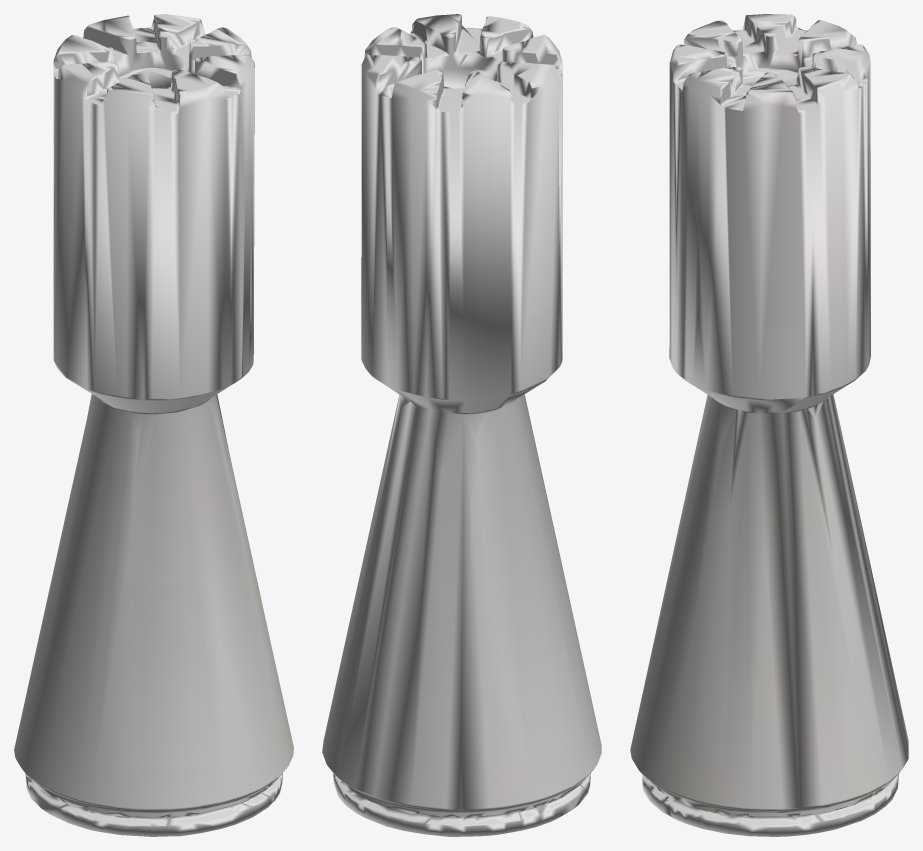
The model's file is 01_kral_bila.glb.
The picture shows the model from 3 angles, left to right: view 1: azimuth 30°, elevation 25°; view 2: azimuth 150°, elevation 25°; view 3: azimuth 270°, elevation 25°; orthographic projection.
Parts seen in each view (by area): view 1: 01_kral_bila; view 2: 01_kral_bila; view 3: 01_kral_bila.
Boxes of the visible parts, <box> form: 01_kral_bila: <box>14,14,293,836</box>; 01_kral_bila: <box>322,14,601,836</box>; 01_kral_bila: <box>630,14,908,836</box>.
Size of the model in its own units: 0.0336 by 0.0972 by 0.0336.
Materials: 1 (1 with a texture image).
